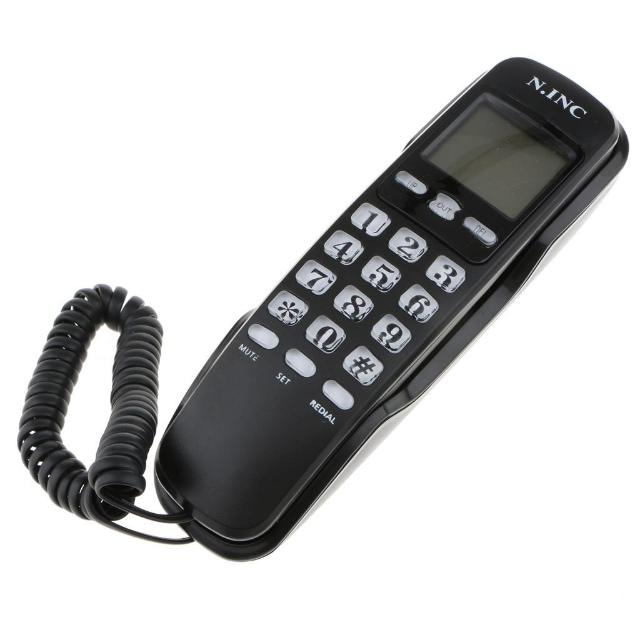Telephone-Set: (45, 24, 619, 554)
